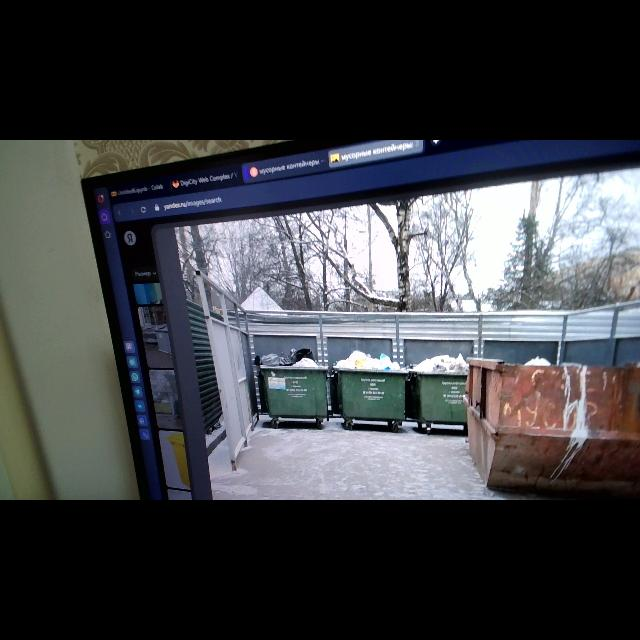Trash_Can_Full: (334, 351, 408, 421), (259, 347, 331, 418), (413, 352, 471, 423)
